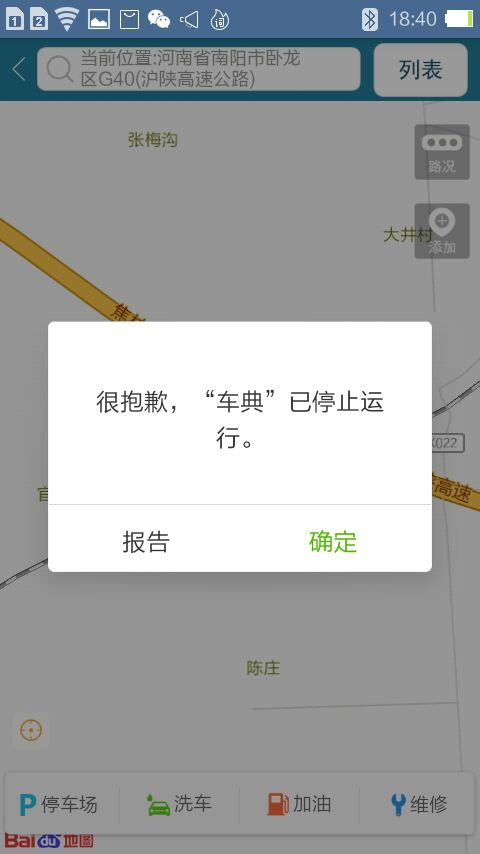alert: (40, 316, 439, 580)
